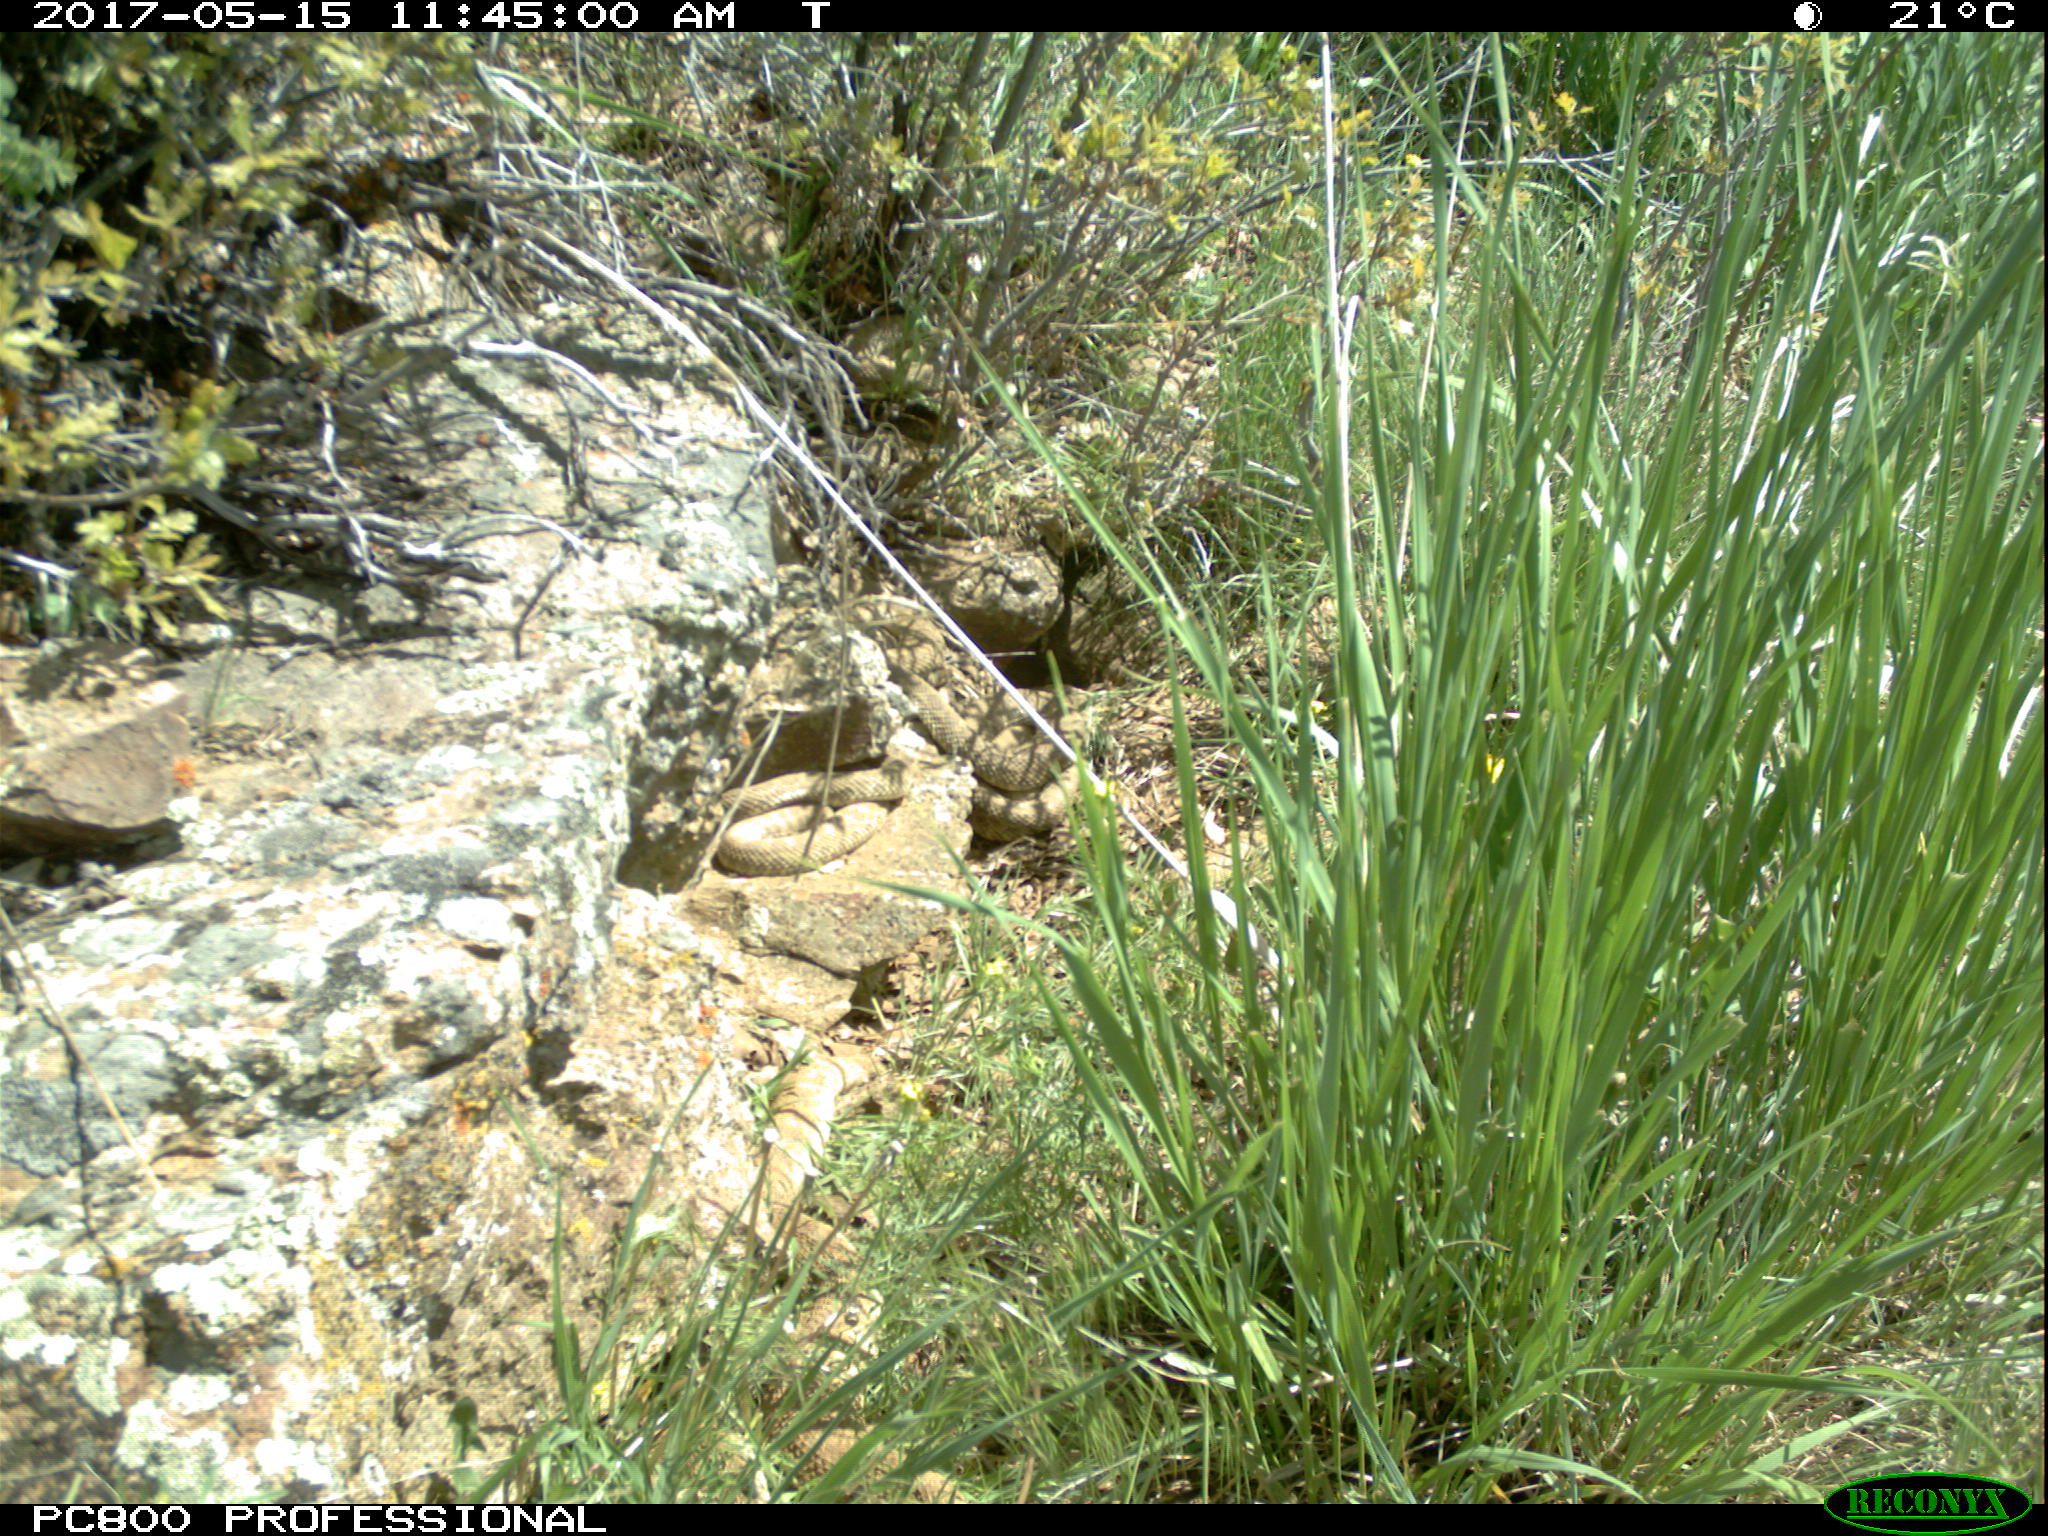snake: (756, 1050, 887, 1492), (713, 762, 921, 878), (897, 665, 1068, 795), (832, 592, 947, 671), (959, 773, 1092, 837)
